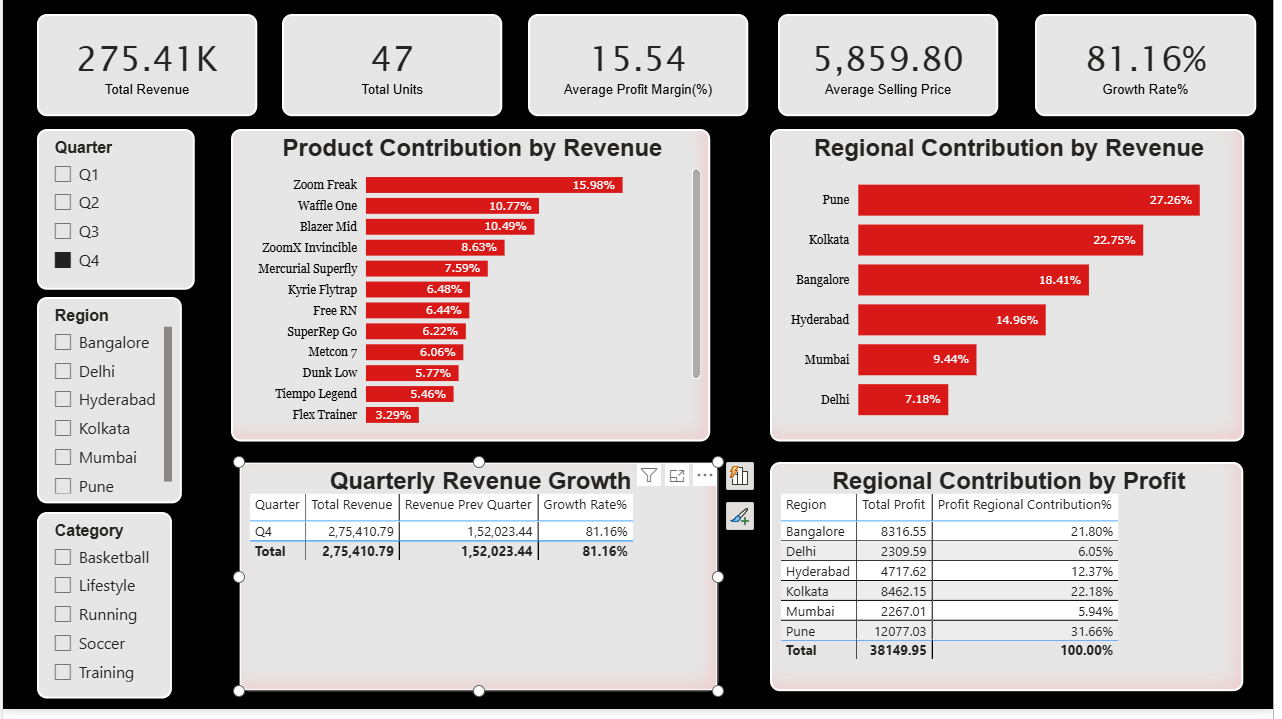

This screenshot's page, from the dashboard's own definition file:
{"tool":"powerbi","page":{"name":"Performance drivers","canvas":[1280,720],"ordinal":1},"visuals":[{"type":"slicer","fields":{"Values":["Nike_Sales.Region"]},"box":[34.3,304.4,146.1,207.6],"z":0},{"type":"tableEx","title":"Regional Contribution by Profit","fields":{"Values":["Nike_Sales.Region","Sum(Nike_Sales.Profit)","Measures (2).pro_Region_Contribution%"]},"box":[773,470.7,476.7,230.8],"z":1000},{"type":"slicer","fields":{"Values":["Calendar.Quarter"]},"box":[34.3,135.1,159.2,162.3],"z":2000},{"type":"clusteredBarChart","title":"Regional Contribution by Revenue","fields":{"Category":["Nike_Sales.Region"],"Y":["Measures (2).Region_Contribution%"]},"box":[773,135.1,477.7,315.5],"z":3000},{"type":"clusteredBarChart","title":"Product Contribution by Revenue","fields":{"Category":["Nike_Sales.Product_Name"],"Y":["Measures (2).Product_Contribution%"]},"box":[229.8,135.1,482.8,315.5],"z":4000},{"type":"tableEx","title":"Quarterly Revenue Growth","fields":{"Values":["Calendar.Quarter","Measures (2).Total_Revenue","Measures (2).Revenue Prev Qtr","Measures (2).Revenue Growth %"]},"box":[237.9,470.7,482.8,230.8],"z":5000},{"type":"card","fields":{"Values":["Measures (2).Total_Revenue"]},"box":[34.3,19.1,222,102.8],"z":6000},{"type":"card","fields":{"Values":["Measures (2).Total_Units"]},"box":[281.2,19.1,222,102.8],"z":7000},{"type":"card","fields":{"Values":["Avg(Nike_Sales.Profit Margin(%))"]},"box":[529.1,19.1,222,102.8],"z":8000},{"type":"card","fields":{"Values":["Measures (2).avg_selling_price"]},"box":[781.1,19.1,222,102.8],"z":9000},{"type":"card","fields":{"Values":["Measures (2).Revenue Growth %"]},"box":[1040.1,19.1,222.7,102.8],"z":10000},{"type":"slicer","fields":{"Values":["Nike_Sales.Product_Category"]},"box":[34.3,521.1,136.1,188.5],"z":11000}]}

Visuals, with their boxes in screenshot pixels (x1, y1, x2, y2), scaled from the page's 1280x720 canvas onto the 1282x719 screenshot:
slicer - Nike_Sales.Region: (34,304,181,511)
"Regional Contribution by Profit" tableEx: (774,470,1252,701)
slicer - Calendar.Quarter: (34,135,194,297)
"Regional Contribution by Revenue" clusteredBarChart: (774,135,1253,450)
"Product Contribution by Revenue" clusteredBarChart: (230,135,714,450)
"Quarterly Revenue Growth" tableEx: (238,470,722,701)
card - Measures (2).Total_Revenue: (34,19,257,122)
card - Measures (2).Total_Units: (282,19,504,122)
card - Avg(Nike_Sales.Profit Margin(%)): (530,19,752,122)
card - Measures (2).avg_selling_price: (782,19,1005,122)
card - Measures (2).Revenue Growth %: (1042,19,1265,122)
slicer - Nike_Sales.Product_Category: (34,520,171,709)
